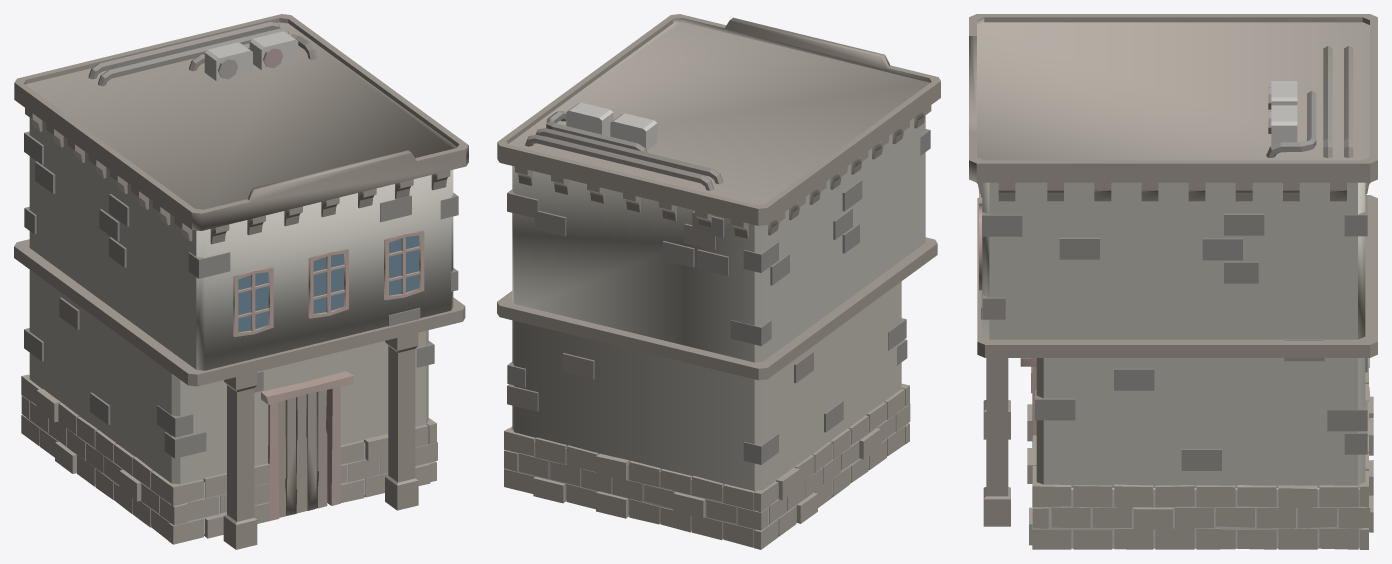
Rendered from house-q-columns.glb.
3 renders of one model, left to right at view 1: azimuth 30°, elevation 25°; view 2: azimuth 150°, elevation 25°; view 3: azimuth 270°, elevation 25°, orthographic. The views are drawn at different scales.
Parts seen in each view (by area): view 1: 2Story_Columns; view 2: 2Story_Columns; view 3: 2Story_Columns.
Part boxes in pixels (x1,y1,x2,y2): 2Story_Columns: (14,14,468,549); 2Story_Columns: (497,14,940,549); 2Story_Columns: (969,14,1377,549).
Size of the model in its own units: 0.8673 by 1.11 by 1.
1 material, 1 textured.
